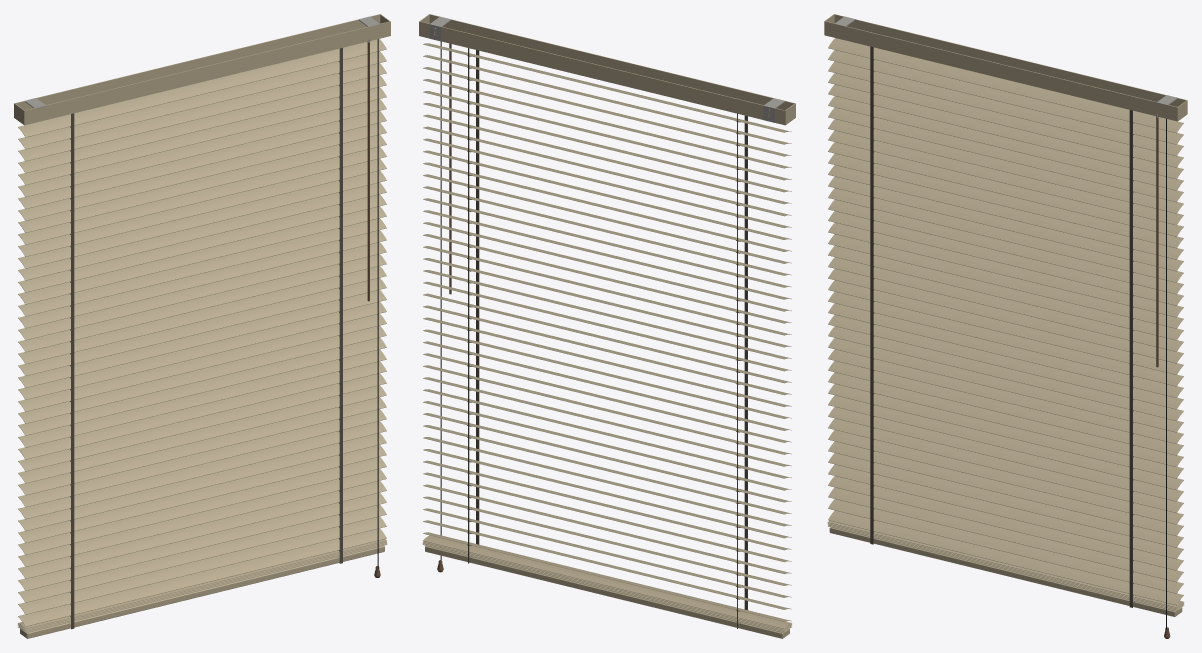
Rendered from kitchen-horizontal-blinds-f120ad02cb14.glb.
3 views of the same model, side by side, from view 1: azimuth 30°, elevation 25°; view 2: azimuth 150°, elevation 25°; view 3: azimuth 330°, elevation 25° (orthographic). The views are drawn at different scales.
Visible parts, largest first — view 1: enamel-beige, fabric, rubber, wood; view 2: enamel-beige, fabric, rubber, wood, brushed; view 3: enamel-beige, fabric, wood, rubber.
Boxes of the visible parts, x1,y1,x2,y2 form: enamel-beige: [14, 14, 390, 638]; fabric: [70, 48, 342, 629]; rubber: [377, 39, 378, 568]; wood: [367, 42, 380, 577]; enamel-beige: [419, 14, 795, 638]; fabric: [467, 48, 747, 628]; rubber: [440, 41, 441, 560]; wood: [437, 43, 451, 572]; brushed: [429, 16, 793, 622]; enamel-beige: [824, 14, 1187, 616]; fabric: [870, 46, 1133, 607]; wood: [1156, 117, 1170, 638]; rubber: [1166, 118, 1166, 629].
Size of the model in its own units: 0.9 by 1.3 by 0.048.
